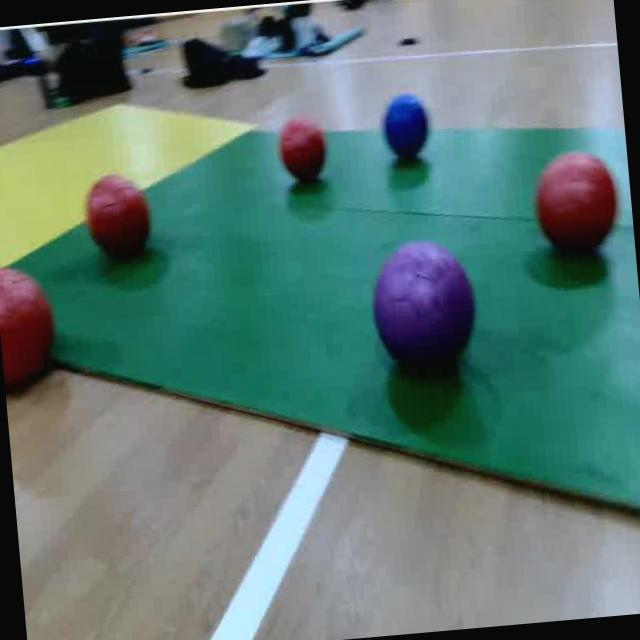blue_ball: (378, 92, 436, 165)
purple_ball: (366, 239, 484, 395)
red_ball: (528, 146, 626, 270), (0, 262, 62, 398), (80, 168, 158, 275), (273, 114, 328, 188)
